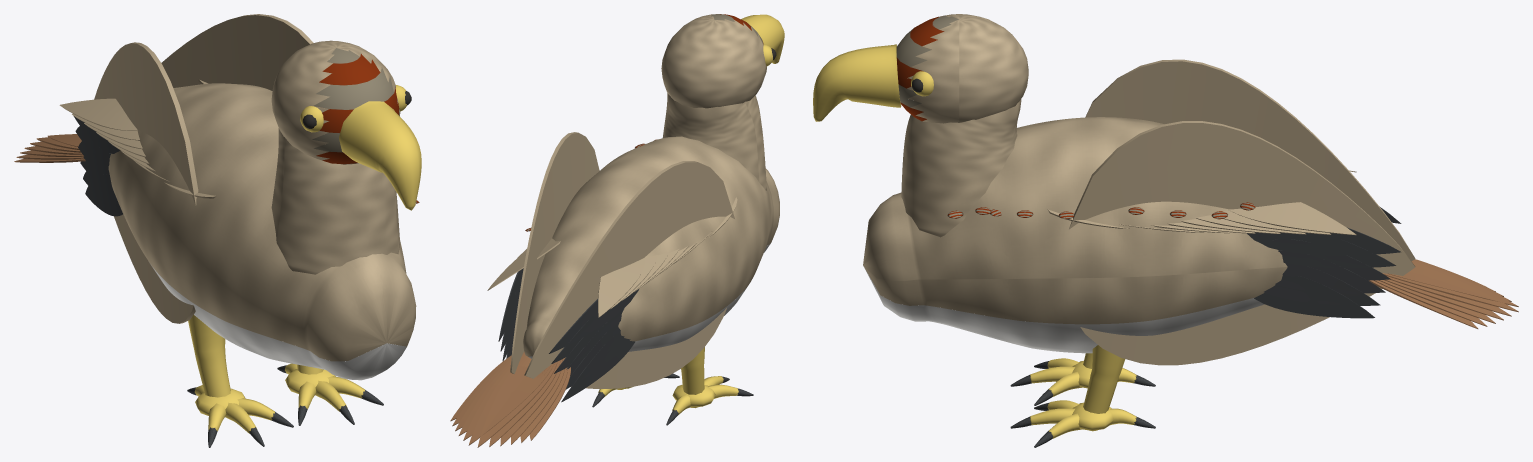
File: birds-and-reptiles-hd-red-tailed-hawk-67df8473__28078.glb
3 renders of one model, left to right at view 1: azimuth 30°, elevation 25°; view 2: azimuth 150°, elevation 25°; view 3: azimuth 270°, elevation 25°, orthographic. The views are drawn at different scales.
Parts seen in each view (by area): view 1: red-tailed-hawk; view 2: red-tailed-hawk; view 3: red-tailed-hawk.
Boxes of the visible parts, x1,y1,x2,y2 form: red-tailed-hawk: [14, 14, 421, 447]; red-tailed-hawk: [450, 14, 784, 447]; red-tailed-hawk: [813, 14, 1518, 447].
Size of the model in its own units: 0.2661 by 0.5649 by 0.9284.
Materials: 7 (5 with a texture image).
